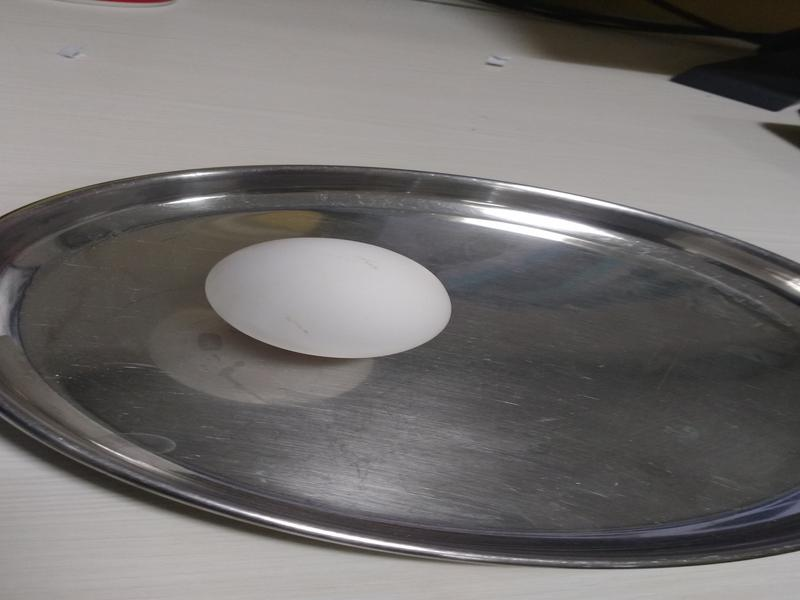egg: (209, 242, 448, 357)
